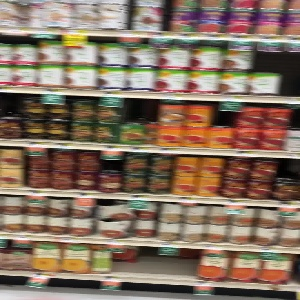void: (113, 242, 203, 282)
